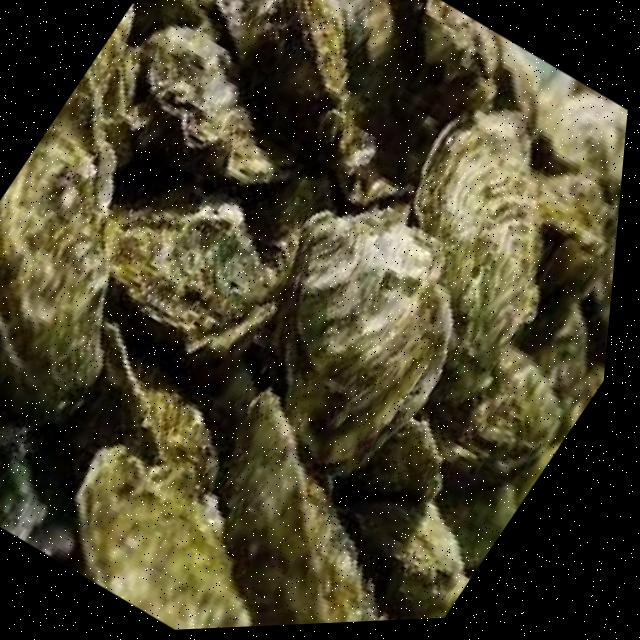Oyster-Closed: (0, 108, 108, 420), (414, 110, 541, 364), (142, 21, 274, 185), (337, 479, 470, 620), (422, 0, 498, 127), (295, 0, 349, 110)
Oyster-Indeterminate: (0, 272, 308, 551), (338, 292, 606, 544), (281, 207, 453, 474), (220, 390, 370, 626), (77, 447, 252, 630), (106, 203, 297, 353), (227, 151, 371, 299), (0, 284, 73, 510), (500, 277, 613, 402), (506, 149, 624, 260), (547, 203, 619, 345), (336, 419, 443, 504), (547, 356, 606, 433)
Oyster-Open: (451, 30, 577, 143)
